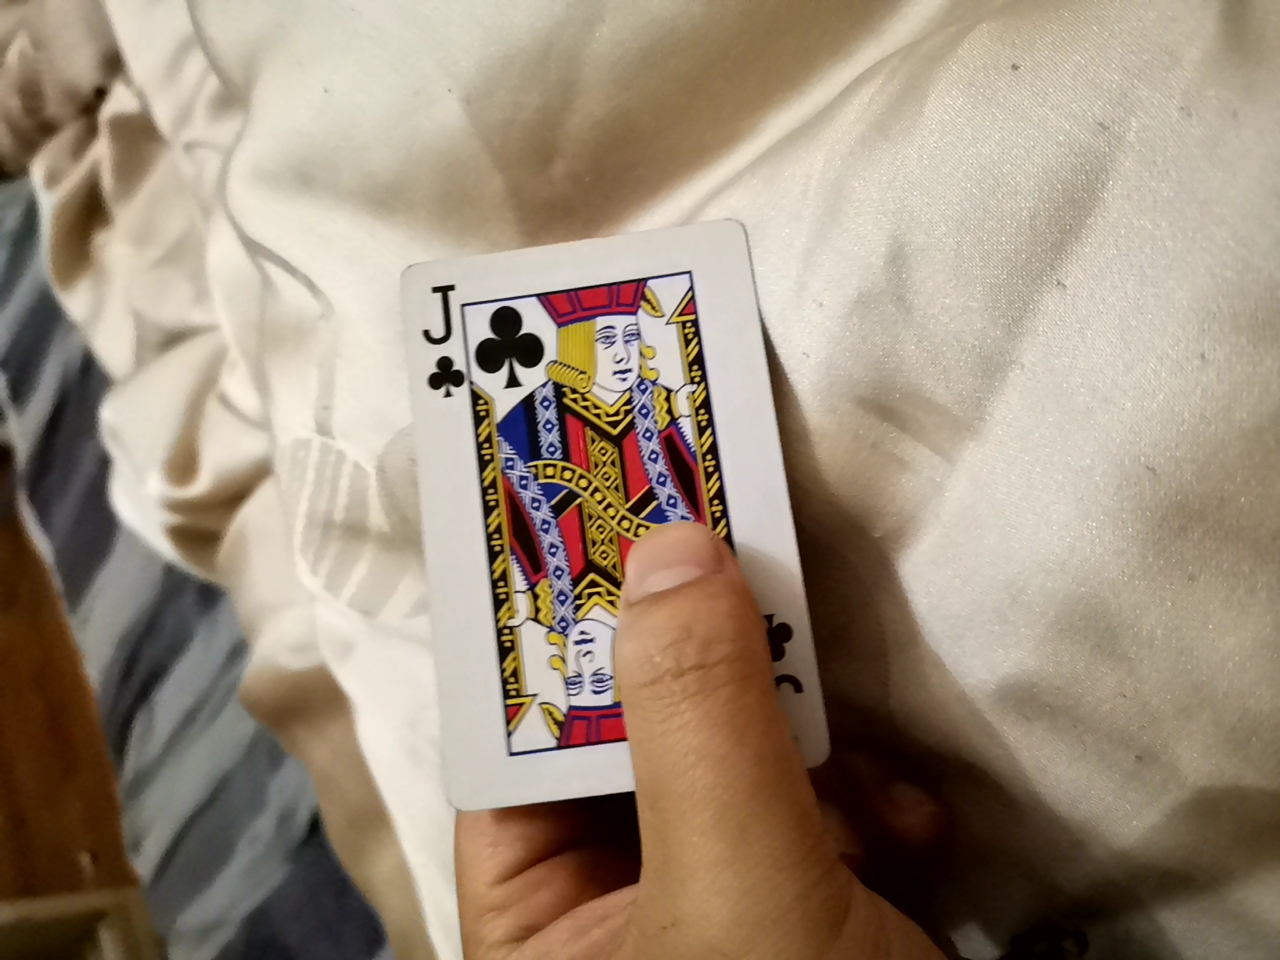mh j: (382, 216, 800, 864)
